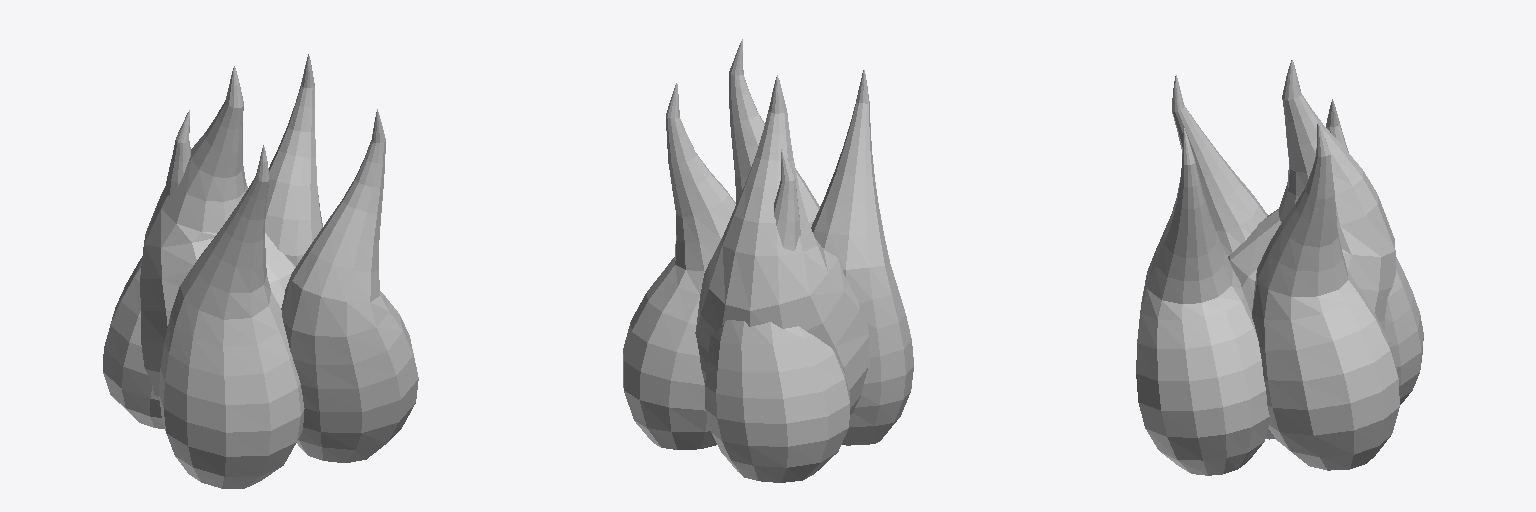
File: fire_000022.obj
3 views of the same model, side by side, from view 1: azimuth 30°, elevation 25°; view 2: azimuth 150°, elevation 25°; view 3: azimuth 270°, elevation 25° (orthographic).
Parts seen in each view (by area): view 1: flame_NurbsPath.015; view 2: flame_NurbsPath.015; view 3: flame_NurbsPath.015.
Part boxes in pixels (bbox=[...]): flame_NurbsPath.015: bbox=[103, 54, 418, 488]; flame_NurbsPath.015: bbox=[623, 39, 913, 482]; flame_NurbsPath.015: bbox=[1136, 60, 1423, 475].
Size of the model in its own units: 0.7514 by 1.18 by 0.8128.